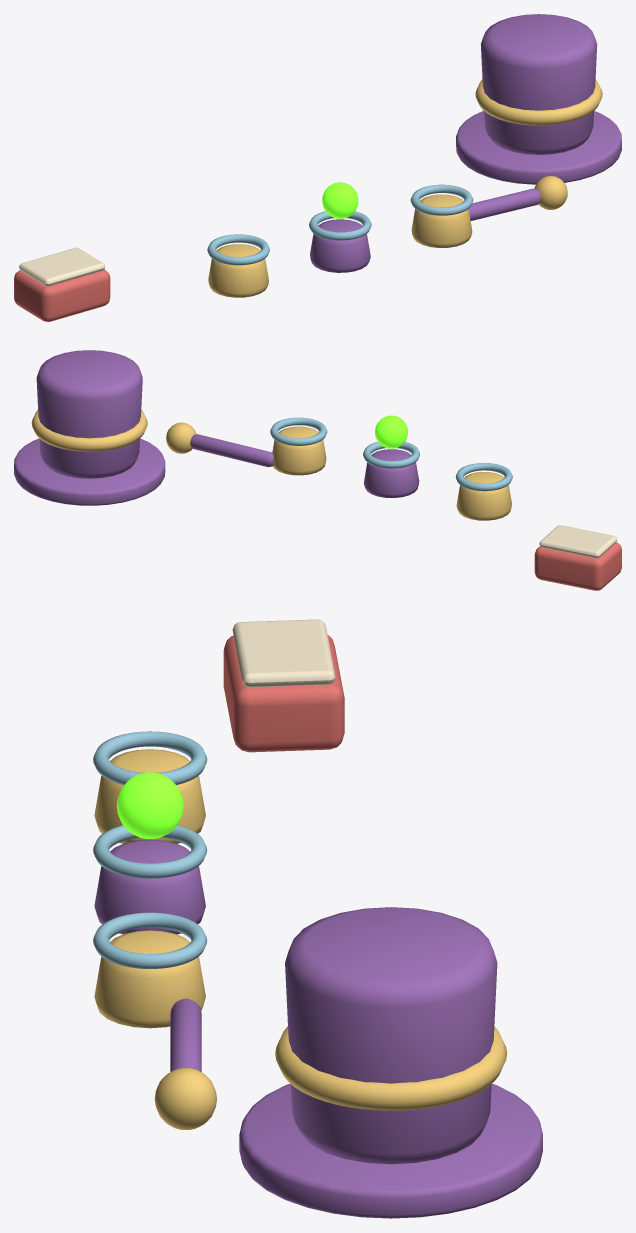
File: grabber_magic.glb
3 views of the same model, one above another, from view 1: azimuth 30°, elevation 25°; view 2: azimuth 150°, elevation 25°; view 3: azimuth 270°, elevation 25° (orthographic). The views are drawn at different scales.
Parts seen in each view (by area): view 1: grabber_magic / material batches; view 2: grabber_magic / material batches; view 3: grabber_magic / material batches.
Part boxes in pixels (x1,y1,x2,y2): grabber_magic / material batches: (14,14,621,321); grabber_magic / material batches: (14,350,621,590); grabber_magic / material batches: (93,619,542,1218).
Bounding box in the file's own units: 2.91 × 0.57 × 1.01.
